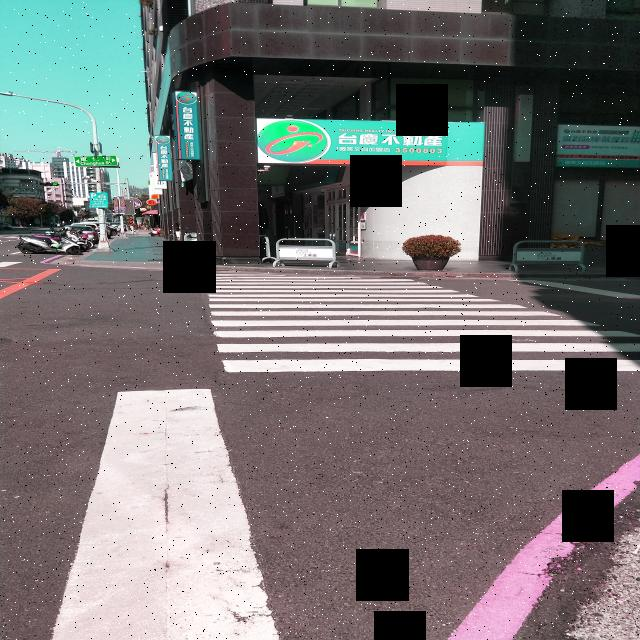zebra_crossing: (84, 87, 327, 458)
